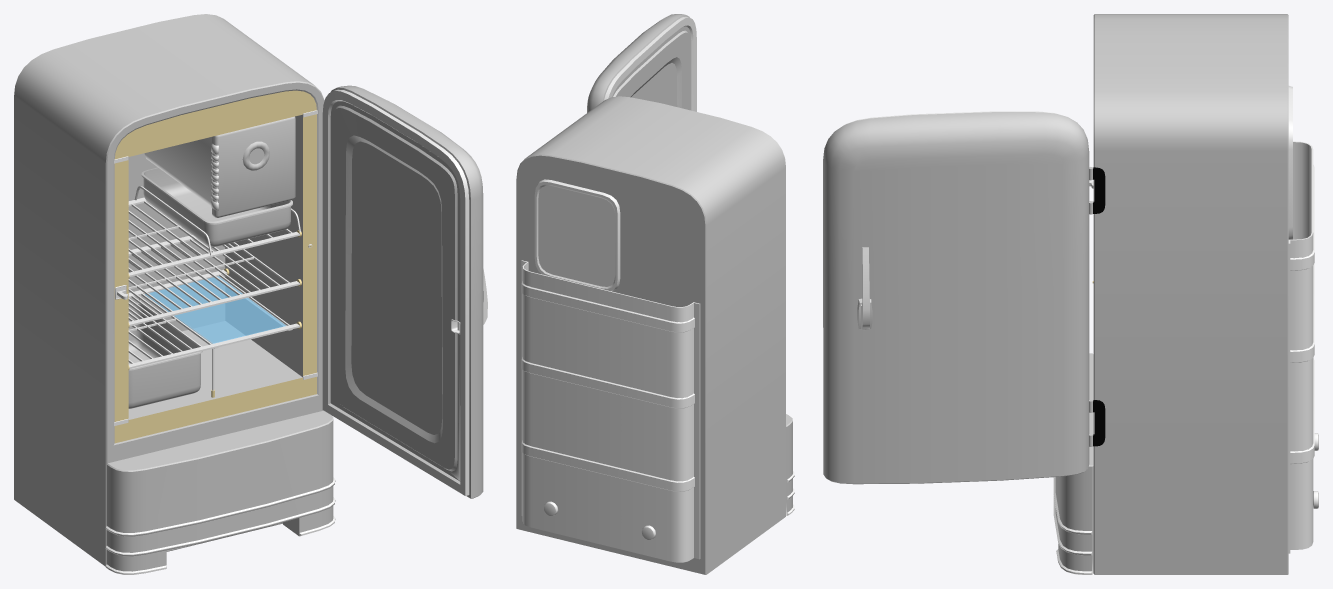
File: frige.fbx
The picture shows the model from 3 angles, left to right: view 1: azimuth 30°, elevation 25°; view 2: azimuth 150°, elevation 25°; view 3: azimuth 270°, elevation 25°; orthographic projection. The views are drawn at different scales.
Visible parts, largest first — view 1: Frige, Door; view 2: Frige, Door; view 3: Frige, Door.
Part boxes in pixels (x1,y1,x2,y2): Frige: (14, 14, 335, 574); Door: (322, 85, 487, 498); Frige: (516, 96, 794, 574); Door: (587, 14, 696, 112); Frige: (1053, 14, 1318, 574); Door: (823, 111, 1089, 484).
Bounding box in the file's own units: 86.31 × 133 × 129.
